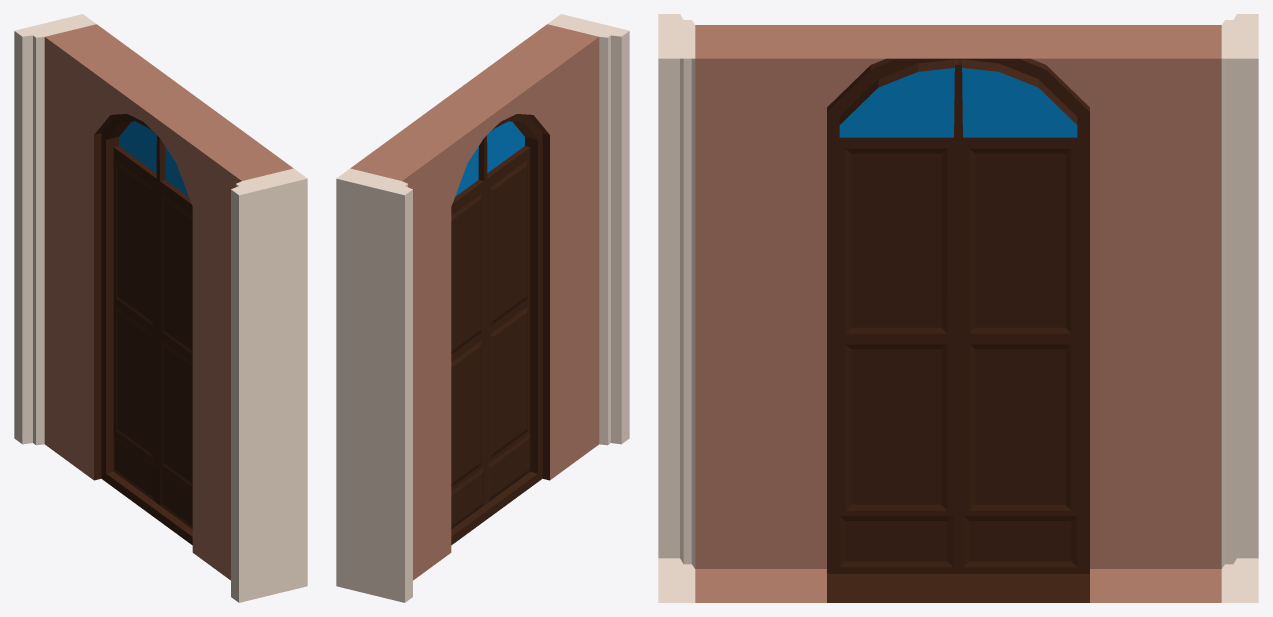
The model's file is O_V_F_Type6_Door.fbx.
3 views of the same model, side by side, from view 1: azimuth 30°, elevation 25°; view 2: azimuth 150°, elevation 25°; view 3: azimuth 270°, elevation 25° (orthographic). The views are drawn at different scales.
Parts seen in each view (by area): view 1: Box036; view 2: Box036; view 3: Box036.
Boxes of the visible parts, x1,y1,x2,y2 form: Box036: (14, 14, 307, 602); Box036: (336, 14, 629, 602); Box036: (658, 14, 1258, 602).
Size of the model in its own units: 0.5287 by 3 by 3.
